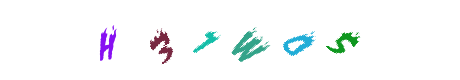0: (219, 0, 299, 80)
1: (189, 0, 269, 80)
3: (122, 0, 202, 80)
5: (304, 0, 384, 80)
H: (67, 0, 147, 80)
W: (200, 0, 280, 80)
